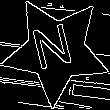N_S: (31, 21, 81, 80)
